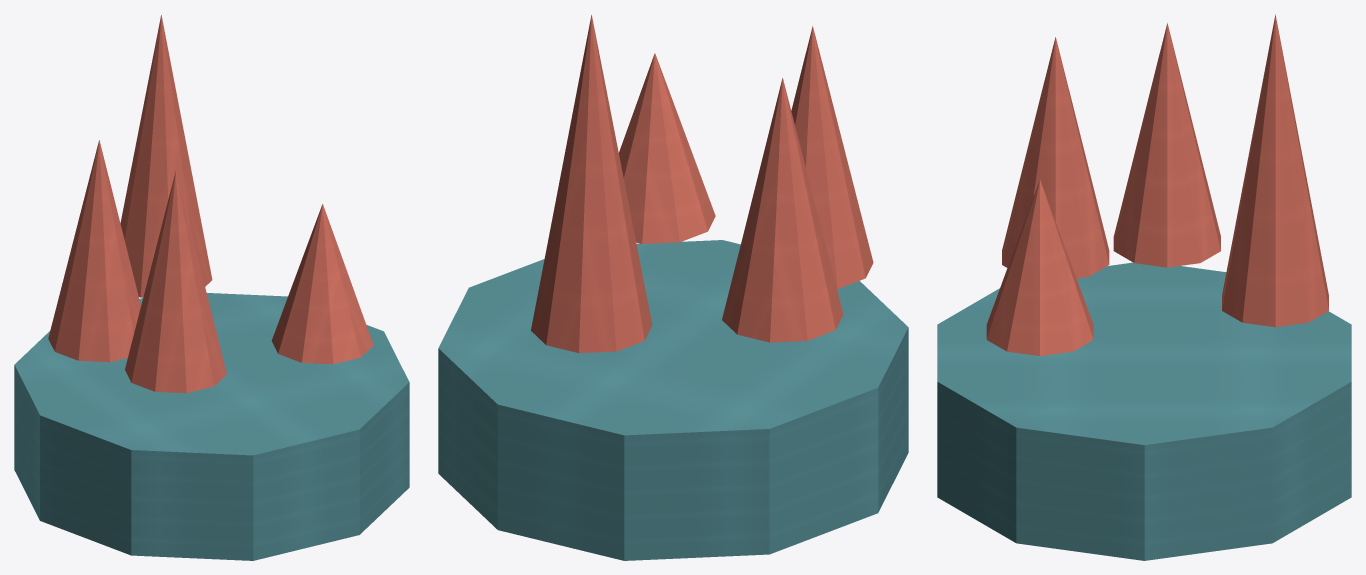
File: atlas100-s071-a12.lod1.glb
3 renders of one model, left to right at view 1: azimuth 30°, elevation 25°; view 2: azimuth 150°, elevation 25°; view 3: azimuth 270°, elevation 25°, orthographic. The views are drawn at different scales.
Visible parts, largest first — view 1: atlas100-s071-a12:part-000, atlas100-s071-a12:part-002, atlas100-s071-a12:part-005, atlas100-s071-a12:part-003, atlas100-s071-a12:part-004; view 2: atlas100-s071-a12:part-000, atlas100-s071-a12:part-003, atlas100-s071-a12:part-005, atlas100-s071-a12:part-004, atlas100-s071-a12:part-002; view 3: atlas100-s071-a12:part-000, atlas100-s071-a12:part-003, atlas100-s071-a12:part-005, atlas100-s071-a12:part-002, atlas100-s071-a12:part-004.
Boxes of the visible parts, left/top/right/bottom form: atlas100-s071-a12:part-000: left=14, top=293, right=409, bottom=560; atlas100-s071-a12:part-002: left=125, top=171, right=226, bottom=393; atlas100-s071-a12:part-005: left=48, top=140, right=140, bottom=362; atlas100-s071-a12:part-003: left=120, top=15, right=212, bottom=297; atlas100-s071-a12:part-004: left=271, top=204, right=373, bottom=364; atlas100-s071-a12:part-000: left=438, top=240, right=908, bottom=560; atlas100-s071-a12:part-003: left=531, top=15, right=652, bottom=353; atlas100-s071-a12:part-005: left=722, top=78, right=843, bottom=342; atlas100-s071-a12:part-004: left=619, top=53, right=715, bottom=243; atlas100-s071-a12:part-002: left=791, top=26, right=873, bottom=289; atlas100-s071-a12:part-000: left=937, top=262, right=1351, bottom=560; atlas100-s071-a12:part-003: left=1222, top=14, right=1328, bottom=327; atlas100-s071-a12:part-005: left=1113, top=23, right=1220, bottom=267; atlas100-s071-a12:part-002: left=1002, top=37, right=1109, bottom=278; atlas100-s071-a12:part-004: left=986, top=179, right=1093, bottom=356.
Size of the model in its own units: 1.16 by 1.35 by 1.1.
2 materials, 2 textured.
